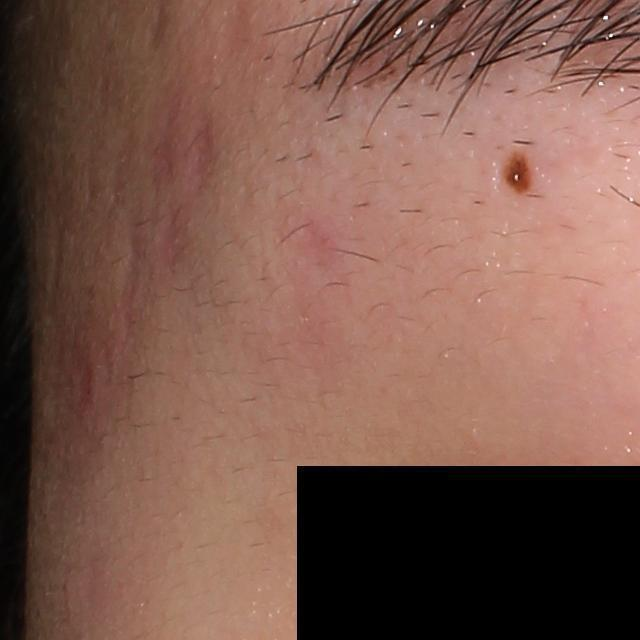atrophic_scar: (110, 219, 141, 344), (144, 76, 172, 200), (190, 100, 223, 191)
nevus: (496, 154, 532, 201)
